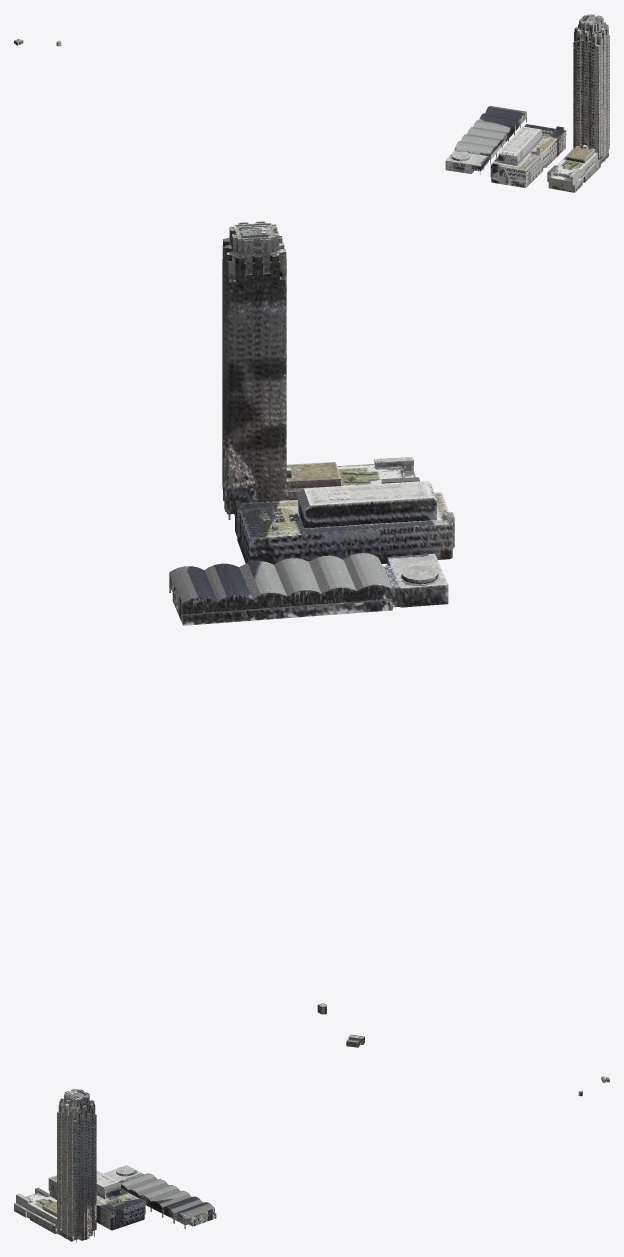
File: rotterdam_wilhelminapier.glb
3 views of the same model, one above another, from view 1: azimuth 30°, elevation 25°; view 2: azimuth 150°, elevation 25°; view 3: azimuth 270°, elevation 25° (orthographic). The views are drawn at different scales.
Parts seen in each view (by area): view 1: CITY_MODEL; view 2: CITY_MODEL; view 3: CITY_MODEL.
Boxes of the visible parts, x1,y1,x2,y2 form: CITY_MODEL: (14, 14, 609, 192); CITY_MODEL: (169, 221, 454, 1047); CITY_MODEL: (14, 1076, 609, 1242).
Bounding box in the file's own units: 391 × 157 × 601.
1 material, 1 textured.
